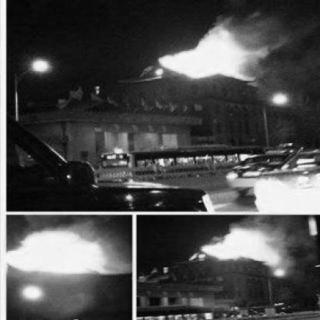Fire: (7, 224, 109, 278), (154, 26, 258, 78), (200, 220, 292, 269)
other: (28, 55, 56, 73), (23, 284, 44, 300), (273, 90, 289, 104)
